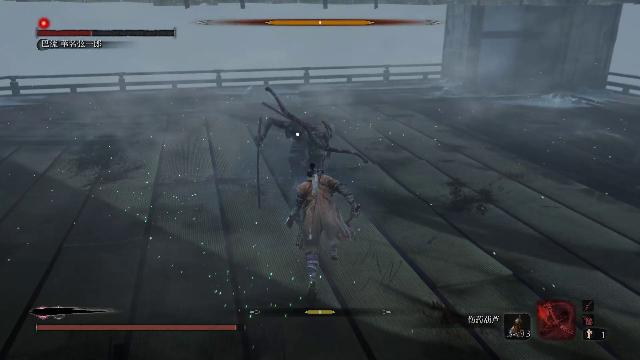sk: (284, 164, 363, 298)
